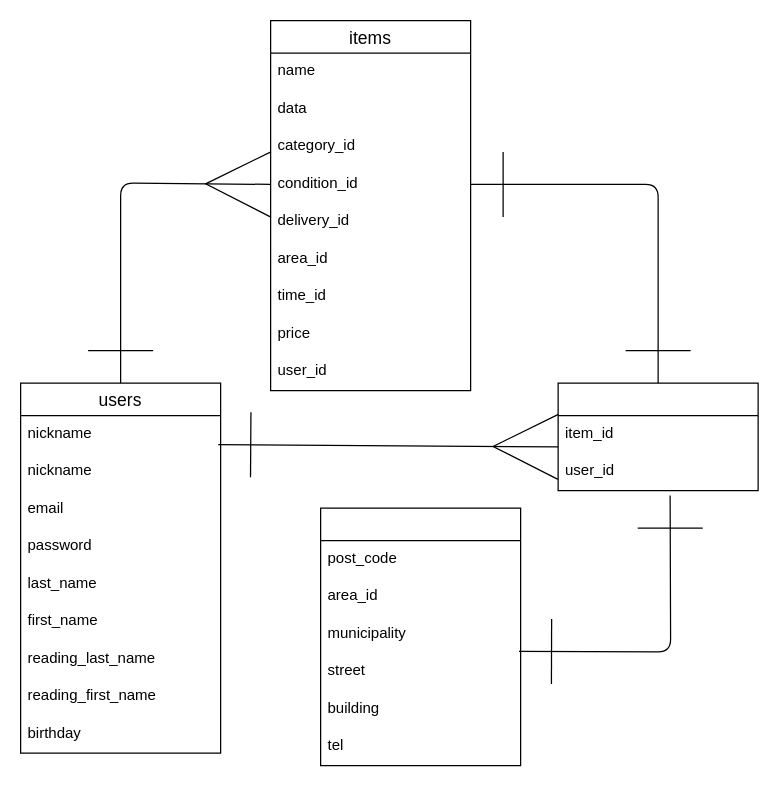
The diagram is 779 pixels wide and 786 high, and some of its shapes have lost their labels. The shapes that lost their labels are listed below. From the top down, each one's box as (x1, y1, x2, y2) in pixels, then its label:
(557, 382, 758, 491): purehases
(319, 507, 521, 766): destinations
